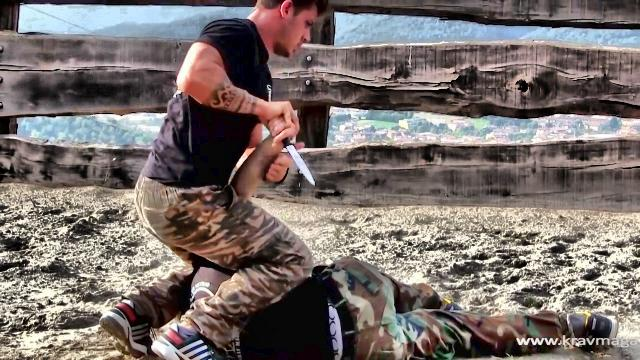knife: (272, 124, 320, 190)
